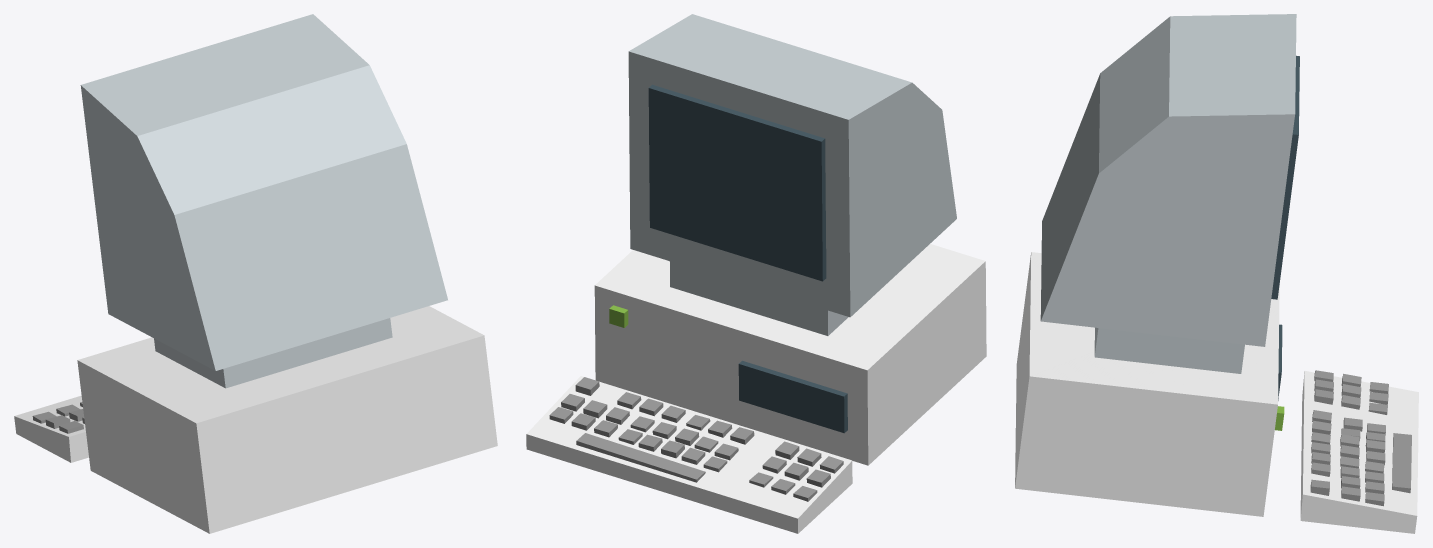
Rendered from Computer.fbx.
The picture shows the model from 3 angles, left to right: view 1: azimuth 30°, elevation 25°; view 2: azimuth 150°, elevation 25°; view 3: azimuth 270°, elevation 25°; orthographic projection. The views are drawn at different scales.
Visible parts, largest first — view 1: mesh_861517382, mesh_1631870305, mesh_2115554823, mesh_1639888595; view 2: mesh_861517382, mesh_1631870305, mesh_1262710399, mesh_1639888595, mesh_2131501692, mesh_2115554823, mesh_1139380957, group_806411317, group_396267525, group_1625508101; view 3: mesh_861517382, mesh_1631870305, mesh_1639888595, mesh_2115554823, mesh_1262710399, mesh_1139380957, group_396267525, group_806411317, group_1625508101.
Boxes of the visible parts, left/top/right/bottom form: mesh_861517382: left=80, top=14, right=447, bottom=370; mesh_1631870305: left=77, top=306, right=497, bottom=533; mesh_2115554823: left=154, top=318, right=392, bottom=388; mesh_1639888595: left=14, top=395, right=88, bottom=462; mesh_861517382: left=628, top=14, right=956, bottom=317; mesh_1631870305: left=594, top=244, right=986, bottom=465; mesh_1262710399: left=648, top=84, right=826, bottom=281; mesh_1639888595: left=526, top=376, right=852, bottom=533; mesh_2131501692: left=738, top=360, right=847, bottom=433; mesh_2115554823: left=669, top=261, right=848, bottom=335; mesh_1139380957: left=576, top=433, right=705, bottom=482; group_806411317: left=775, top=441, right=843, bottom=473; group_396267525: left=762, top=456, right=830, bottom=487; group_1625508101: left=749, top=472, right=817, bottom=501; mesh_861517382: left=1040, top=14, right=1296, bottom=346; mesh_1631870305: left=1015, top=252, right=1279, bottom=516; mesh_1639888595: left=1300, top=371, right=1418, bottom=533; mesh_2115554823: left=1094, top=327, right=1244, bottom=373; mesh_1262710399: left=1271, top=55, right=1299, bottom=299; mesh_1139380957: left=1392, top=433, right=1411, bottom=493; group_396267525: left=1341, top=373, right=1361, bottom=409; group_806411317: left=1314, top=370, right=1333, bottom=404; group_1625508101: left=1368, top=382, right=1388, bottom=414.
Size of the model in its own units: 37.34 by 48.86 by 43.18.
